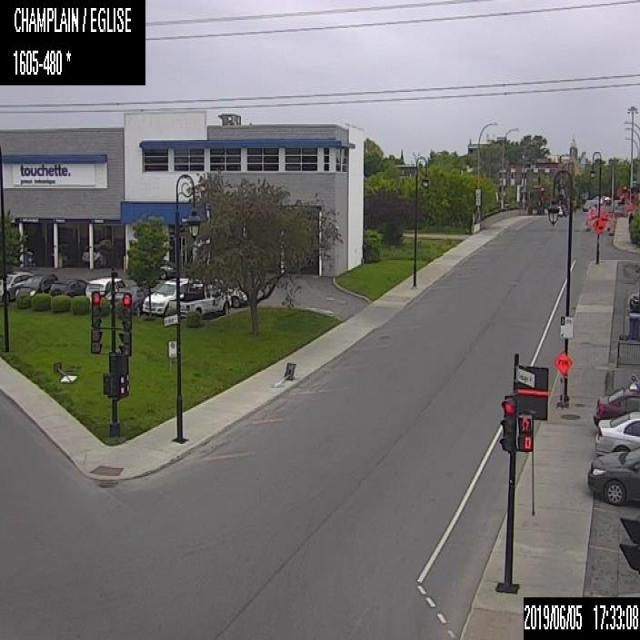construction: (553, 350, 572, 408), (271, 361, 296, 389), (52, 360, 78, 382), (592, 216, 604, 233), (606, 214, 610, 230), (586, 214, 590, 230), (609, 219, 613, 234), (586, 209, 590, 224)
vehicle: (587, 446, 639, 504), (142, 275, 202, 316), (594, 410, 639, 456), (168, 284, 230, 316), (593, 387, 639, 427), (15, 271, 58, 301), (110, 284, 149, 315), (0, 268, 34, 300), (208, 278, 246, 306), (85, 276, 125, 301), (82, 242, 118, 266), (48, 276, 88, 297), (160, 258, 173, 278), (628, 290, 639, 312), (581, 198, 596, 211), (592, 195, 602, 203), (556, 205, 562, 215), (603, 196, 610, 203)
